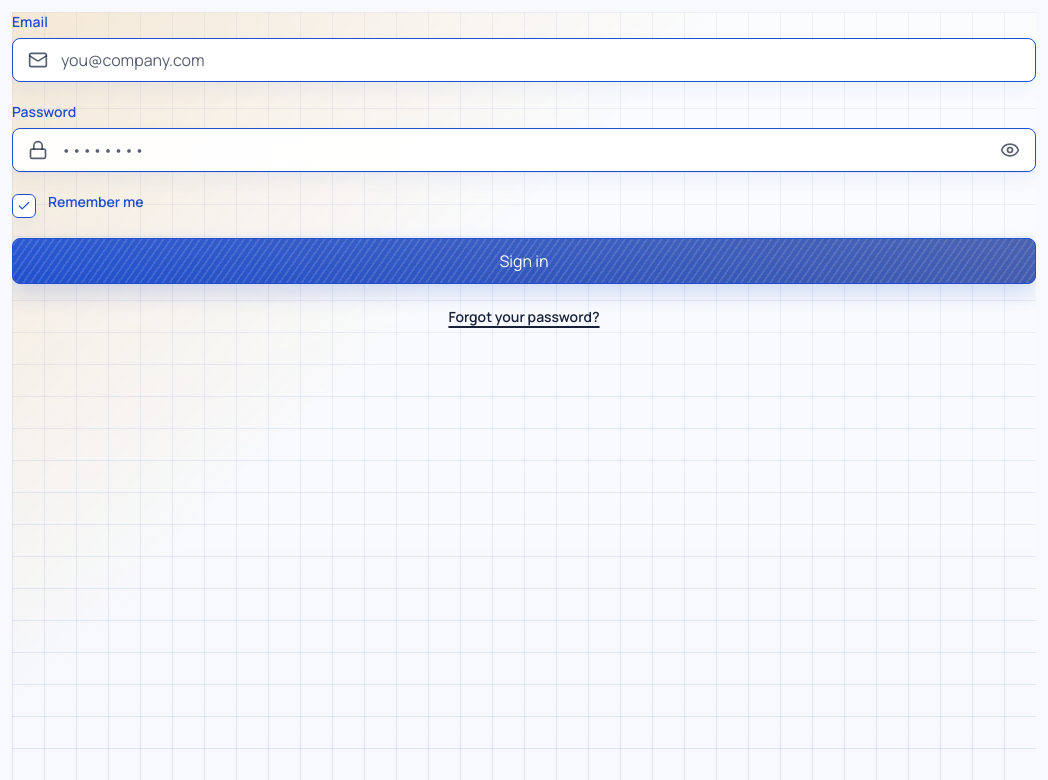
Scenario: LoginForm › shows the fallback message when sign-in fails without a message
This screenshot has width=1048, height=780.
Type "alex@example.test" into the field labelled "Email" at (524, 60), box [12, 38, 1036, 82]
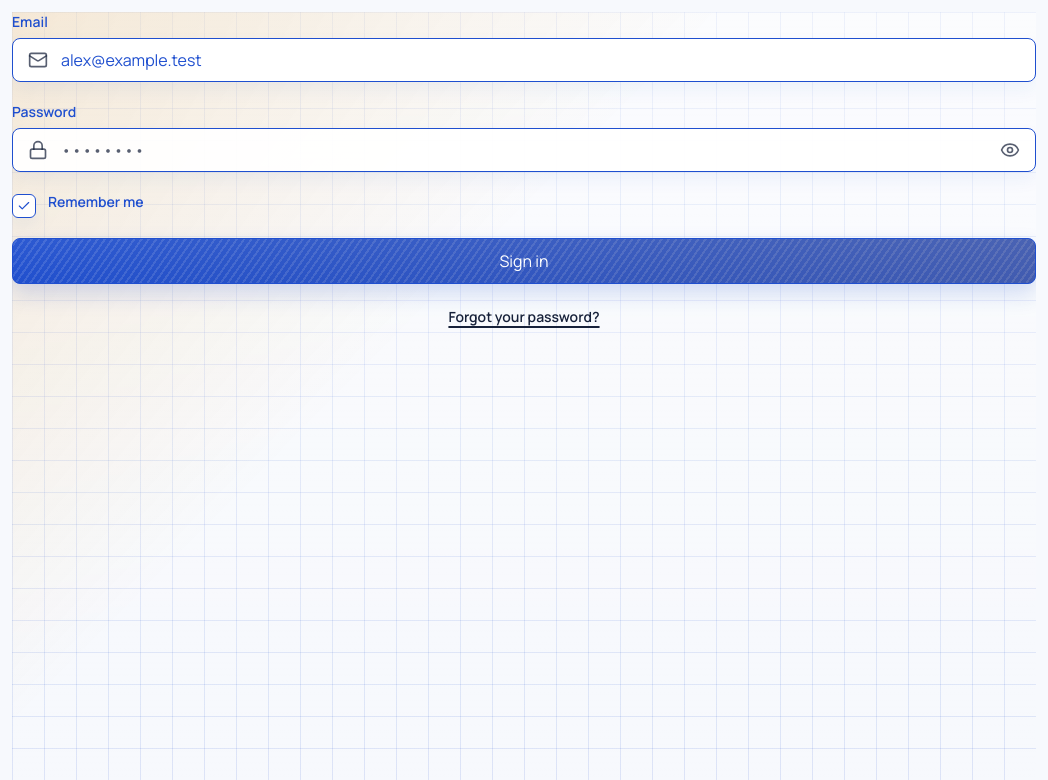
Type "password123" into the password field labelled "Password" at (524, 150), box [12, 128, 1036, 172]
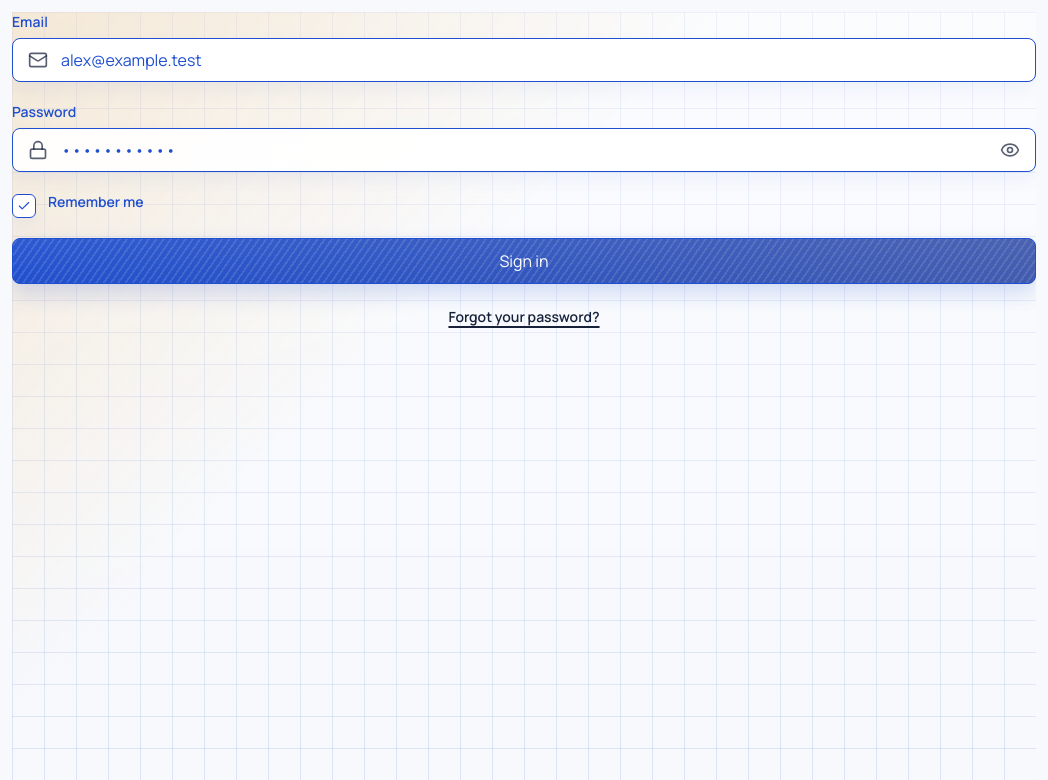
Click the button "Sign in" at (524, 261), box [12, 238, 1036, 284]
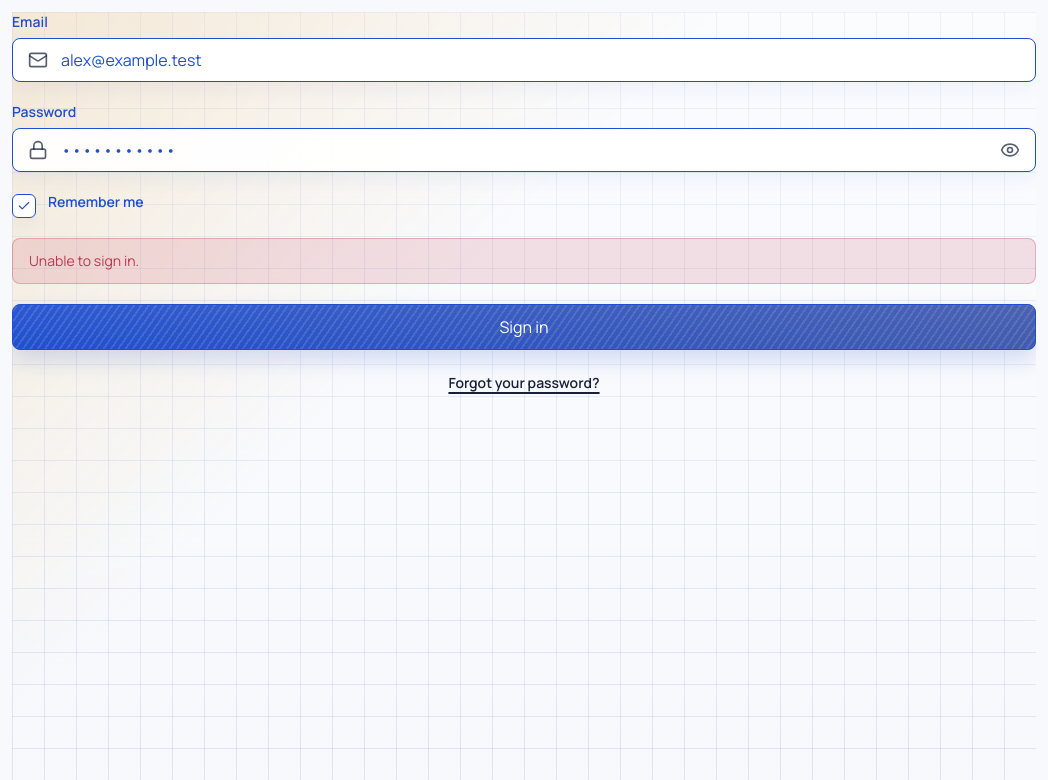
Check: the text "Unable to sign in." is shown, box [12, 238, 1036, 284]
